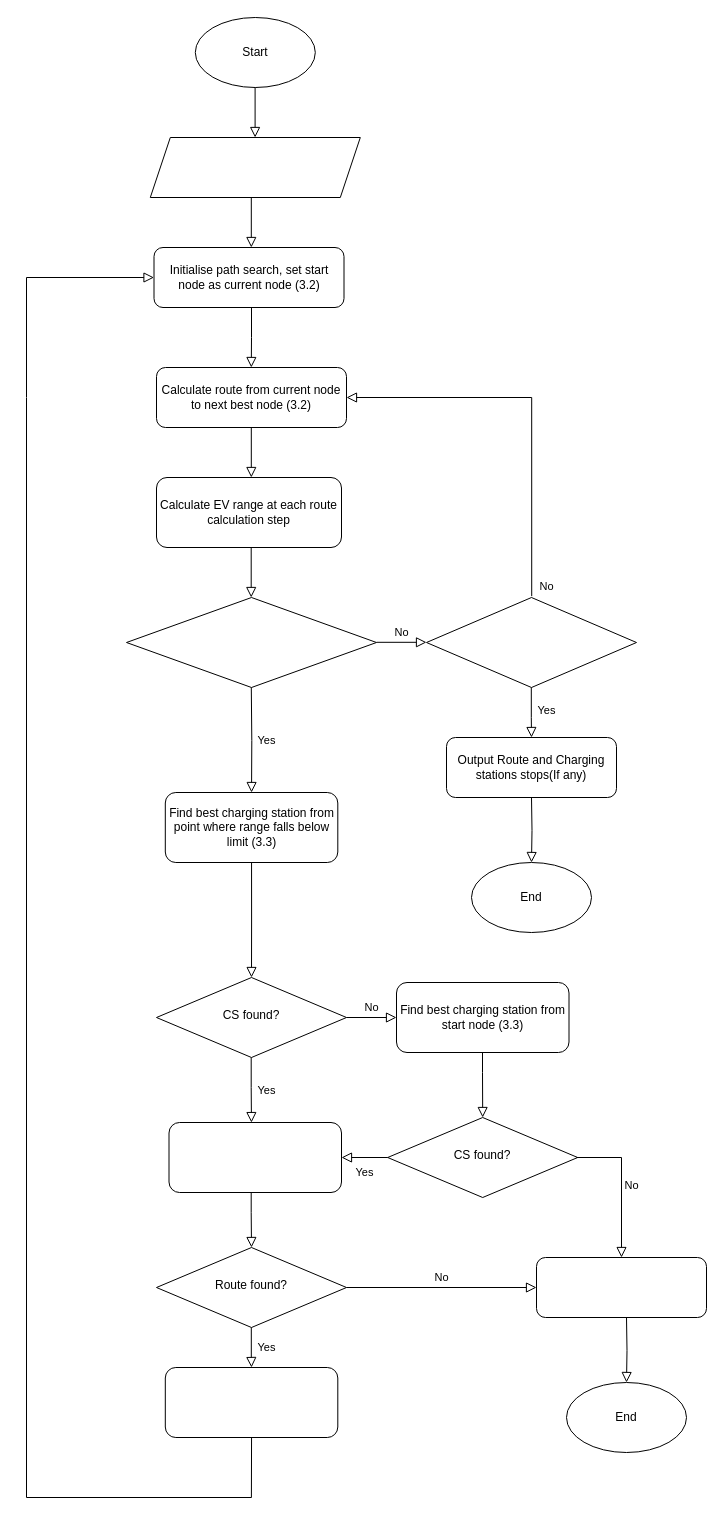
Some shapes in this 724 by 1516 pixel diagram are drawn without their labels. Here are the shapes that lost their labels. From the top down, the centre of each, then its label:
At point 254,167: "Route start and end input".
At point 251,642: "Does EV range fall below threshold?".
At point 531,642: "Are we at the end node?".
At point 255,1157: "Calculate route from start to charging station (3.2)".
At point 621,1287: "No valid route for EV with current capacity".
At point 251,1402: "Set new start point as node after charging station".
